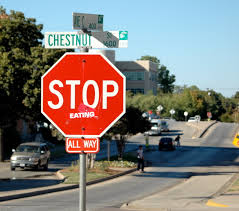stop_sign: (40, 53, 126, 139)
